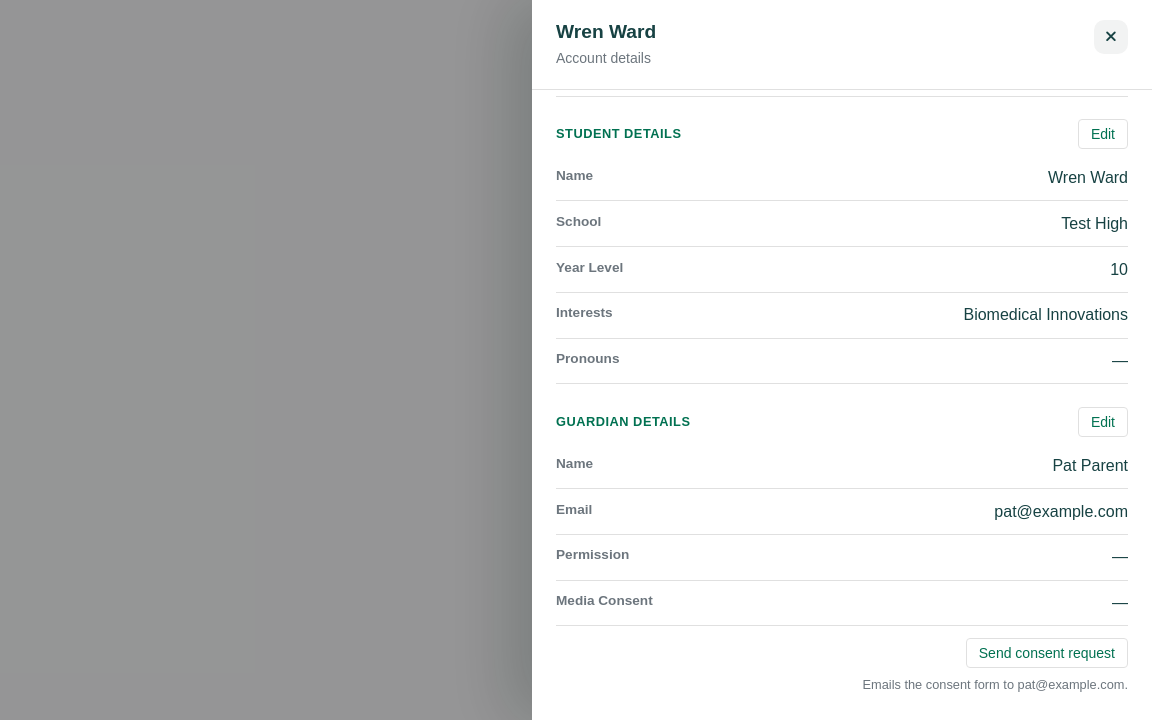
Test: admin user detail: consent request › shows the reason a send was refused
(page scrolled)
Click the button with test id "admin-send-consent-request" at [1047, 653], box [966, 638, 1128, 668]
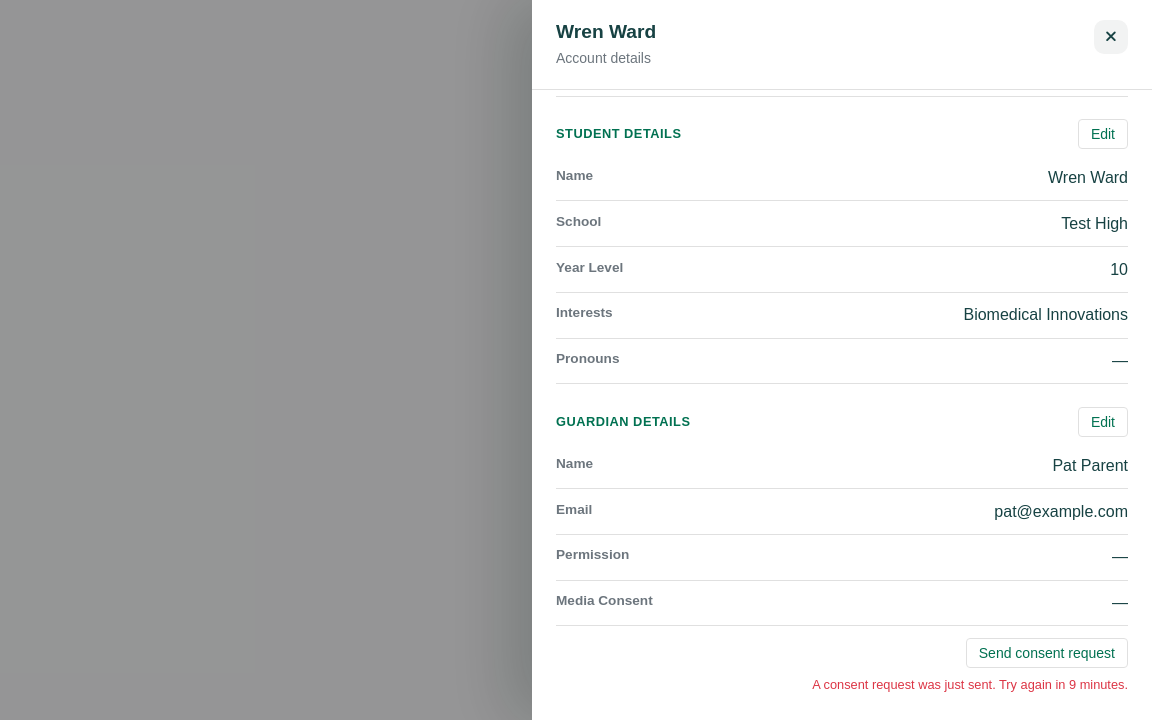
Now the message with test id "admin-consent-request-message" reads "A consent request was just sent. Try again in 9 minutes.", box [812, 677, 1128, 692]
